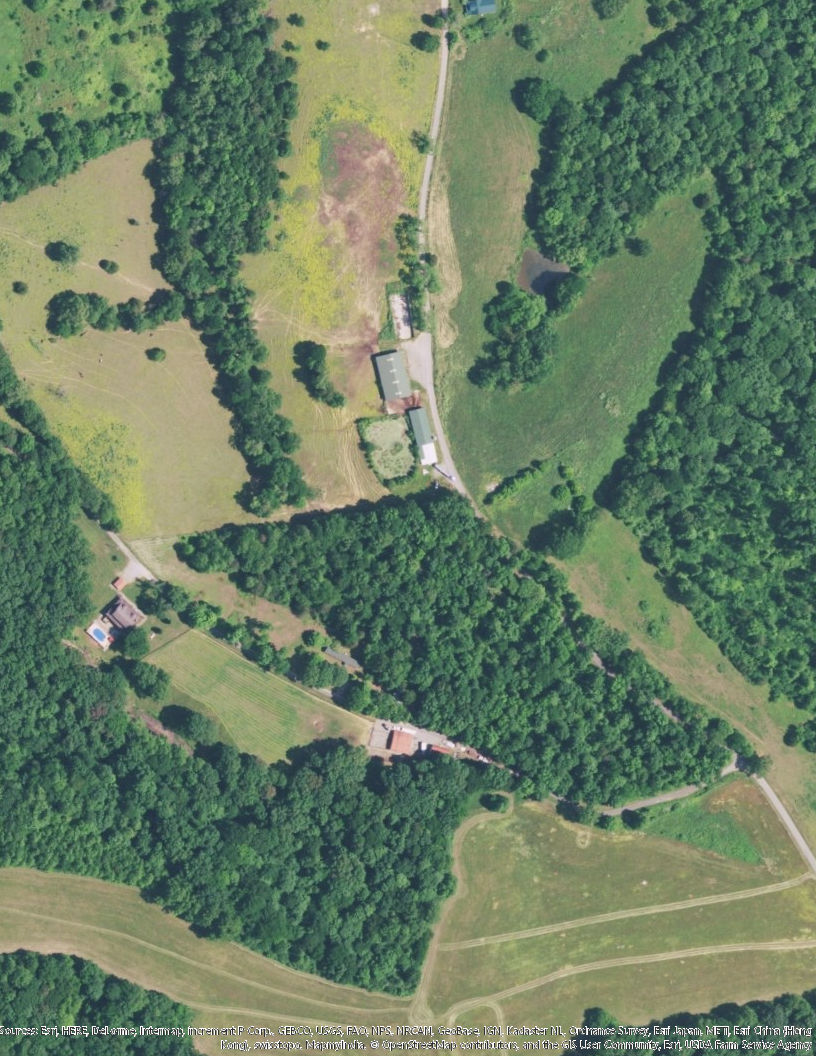cafo: (373, 341, 418, 408), (405, 401, 444, 470)
